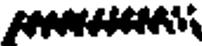Water: (2, 7, 202, 40)
